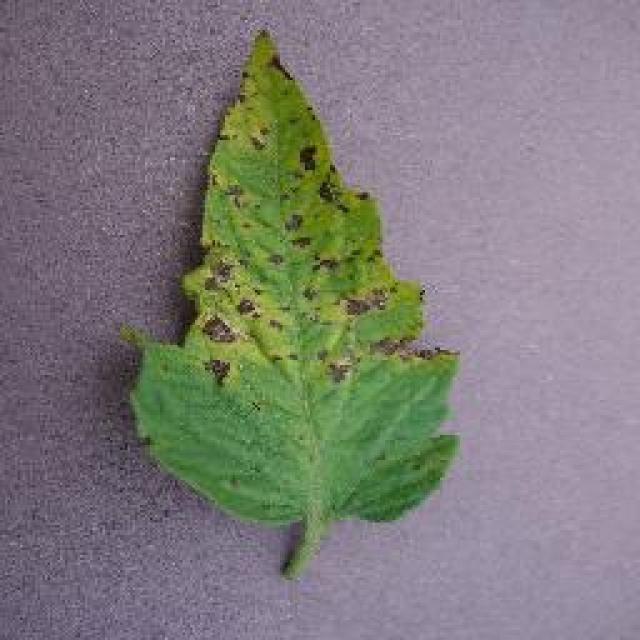Tomato___Septoria_leaf_spot: (120, 30, 458, 575)
